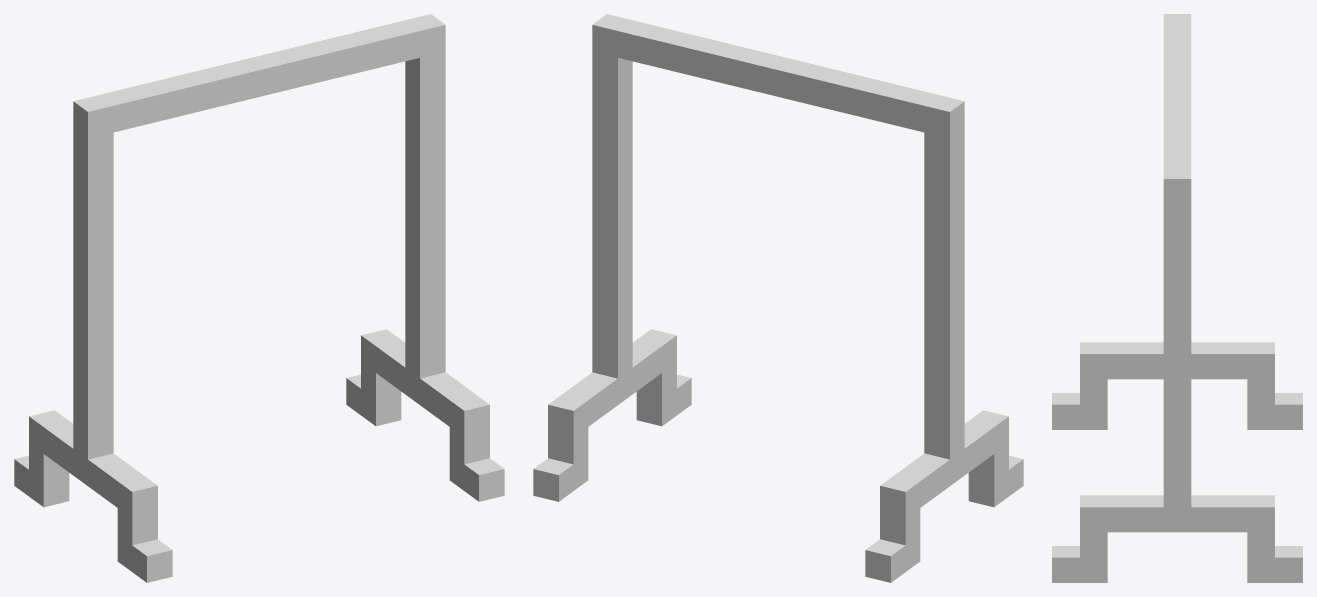
Rendered from wieszak.dae.
The picture shows the model from 3 angles, left to right: view 1: azimuth 30°, elevation 25°; view 2: azimuth 150°, elevation 25°; view 3: azimuth 270°, elevation 25°; orthographic projection. The views are drawn at different scales.
Visible parts, largest first — view 1: wieszak; view 2: wieszak; view 3: wieszak.
Part boxes in pixels (x1,y1,x2,y2): wieszak: (14,14,504,582); wieszak: (533,14,1023,582); wieszak: (1052,14,1302,582).
Bounding box in the file's own units: 14 × 16 × 9.
1 material, 1 textured.
